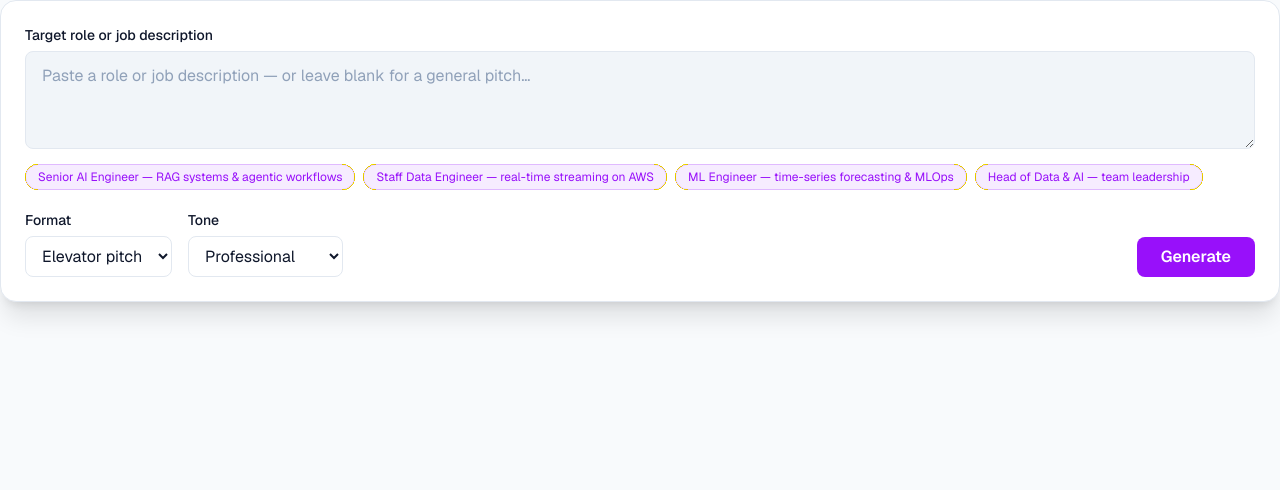
Scenario: ContentGenerator (streaming) › offers Try again in the error state (#211)
Click the button "Generate". click: (1196, 257)
box: [1137, 237, 1255, 277]
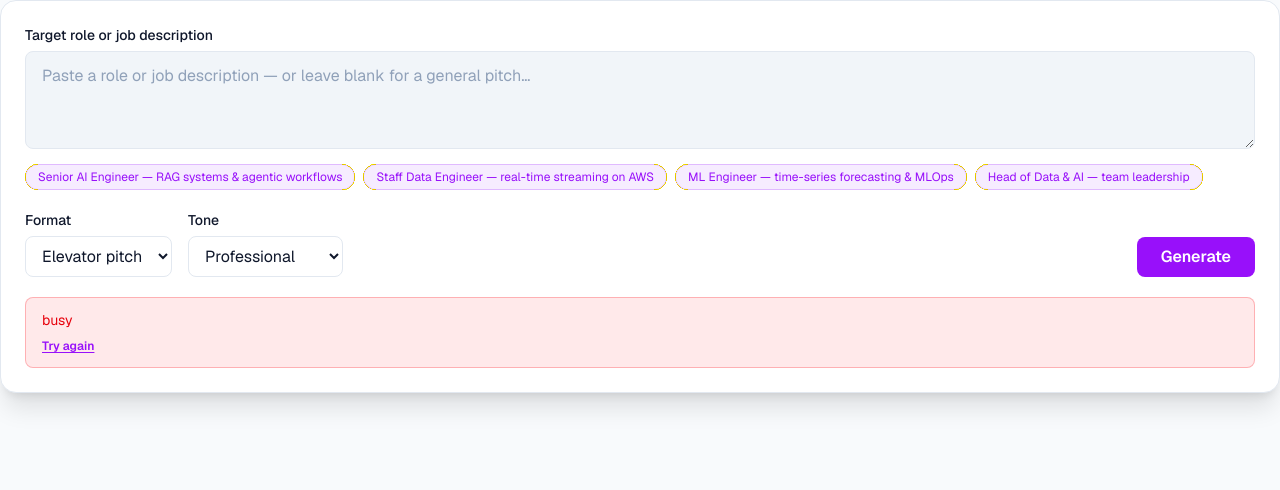
Expected: the text "busy" is shown, [42, 311, 73, 329]
Click the button "Try again". click: (68, 346)
box: [42, 338, 94, 354]
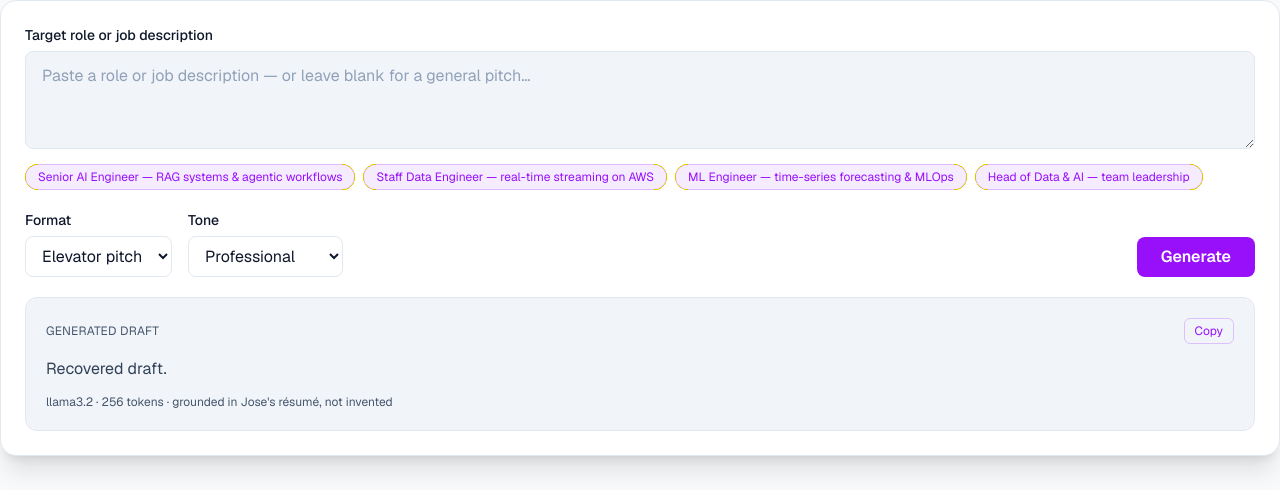
Expected: the text "Recovered draft." is shown, [46, 358, 167, 379]
